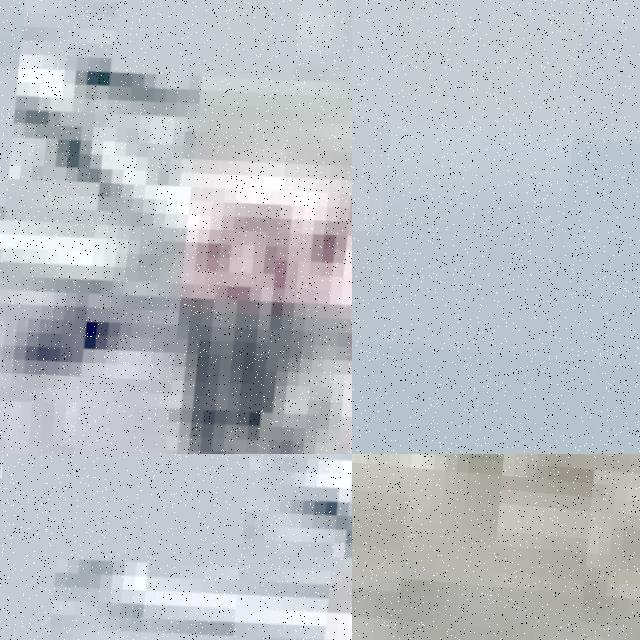drone: (0, 0, 352, 454), (0, 454, 352, 640)
